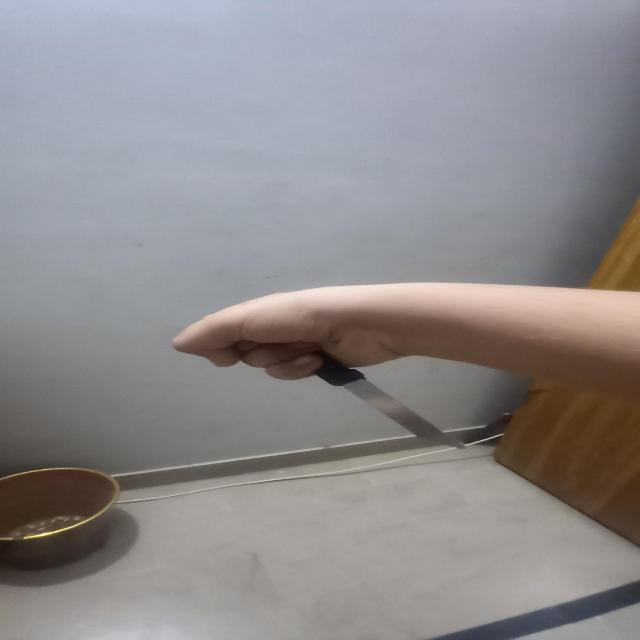Knife: (291, 341, 470, 447)
Person: (173, 282, 640, 404)
